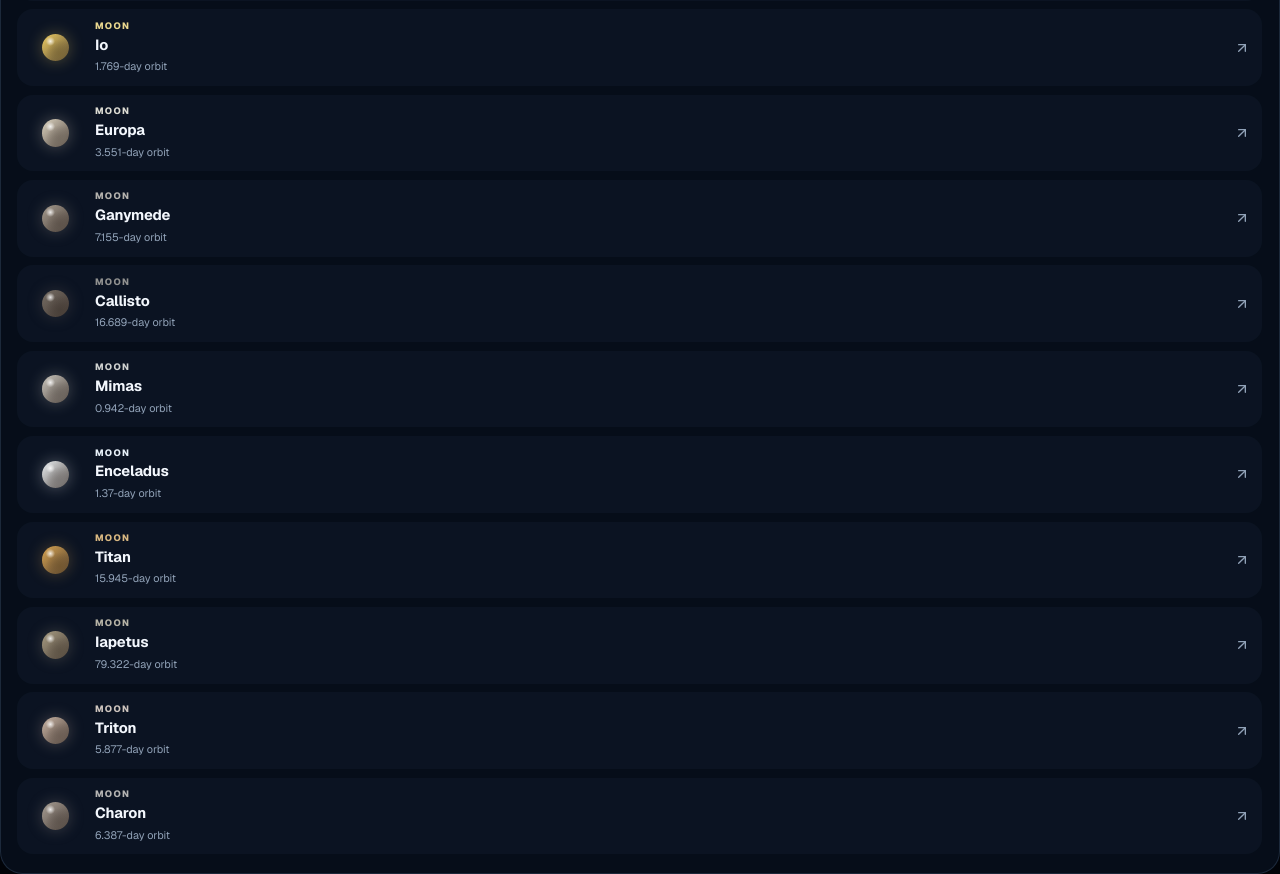
it: FocusCard and ProfilePanel › opens the selected body's labelled profile from its catalogue card
The width and height of the screenshot is (1280, 874).
(page scrolled)
What coordinates should you click on to do the following:
click the button "Moon Titan 15.945-day orbit"
I would click on:
 (113, 538)
Its box is [17, 522, 1262, 598].
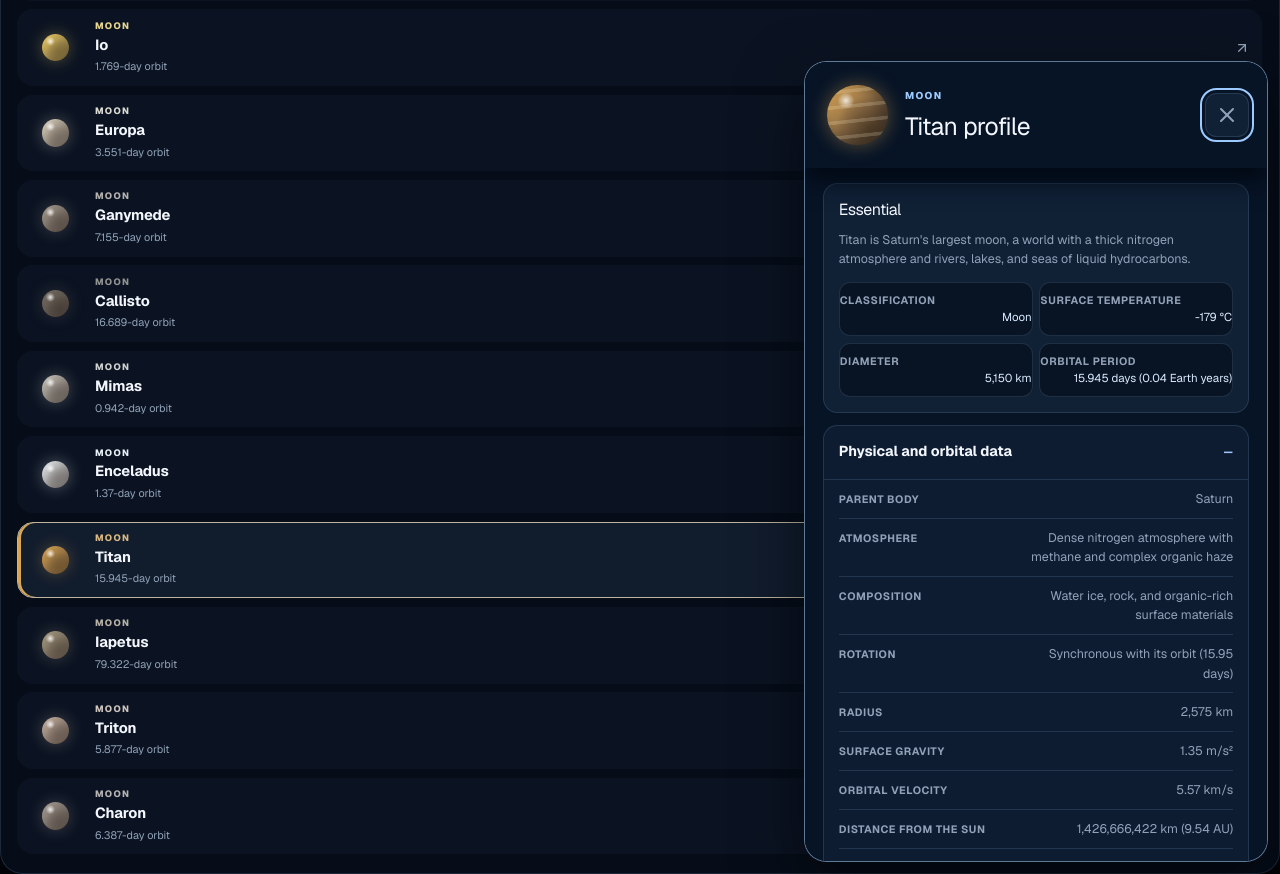
expect the dialog "Titan profile" is shown: met, box [804, 61, 1268, 862]
